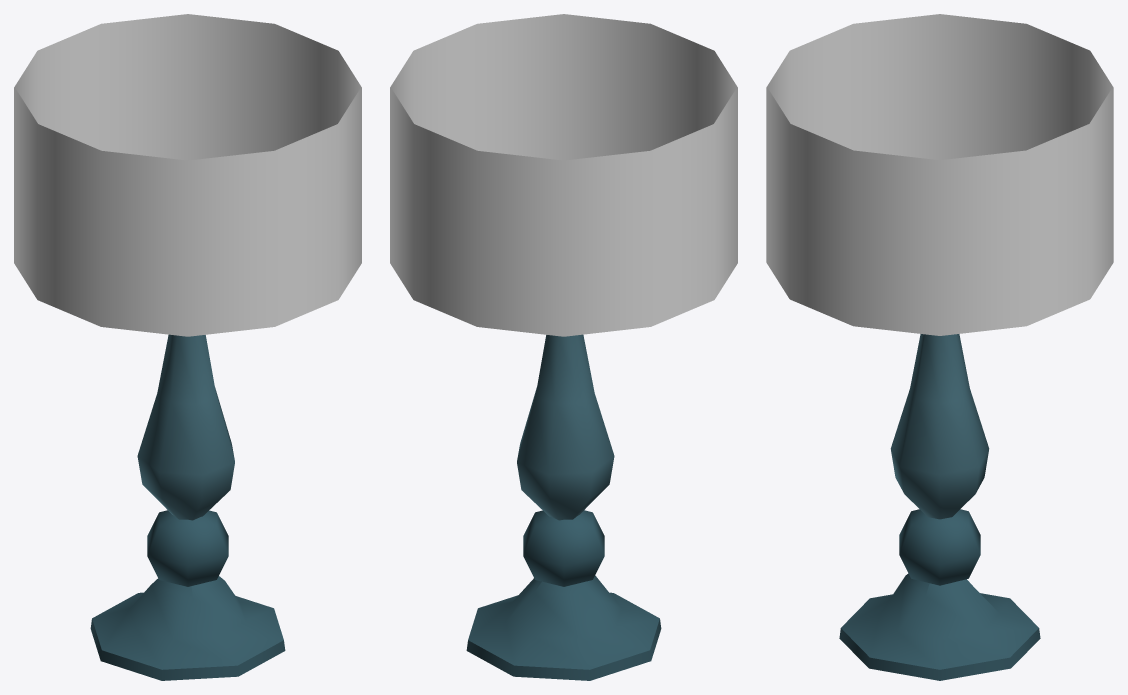
The model's file is lamp_022.glb.
The picture shows the model from 3 angles, left to right: view 1: azimuth 30°, elevation 25°; view 2: azimuth 150°, elevation 25°; view 3: azimuth 270°, elevation 25°; orthographic projection.
Visible parts, largest first — view 1: lamp_022; view 2: lamp_022; view 3: lamp_022.
Part boxes in pixels (box(x1,y1,x2,y2)): lamp_022: box(14, 14, 361, 680); lamp_022: box(390, 14, 737, 680); lamp_022: box(766, 14, 1113, 680).
Bounding box in the file's own units: 0.3947 × 0.6916 × 0.3947.
Materials: 1 (1 with a texture image).
